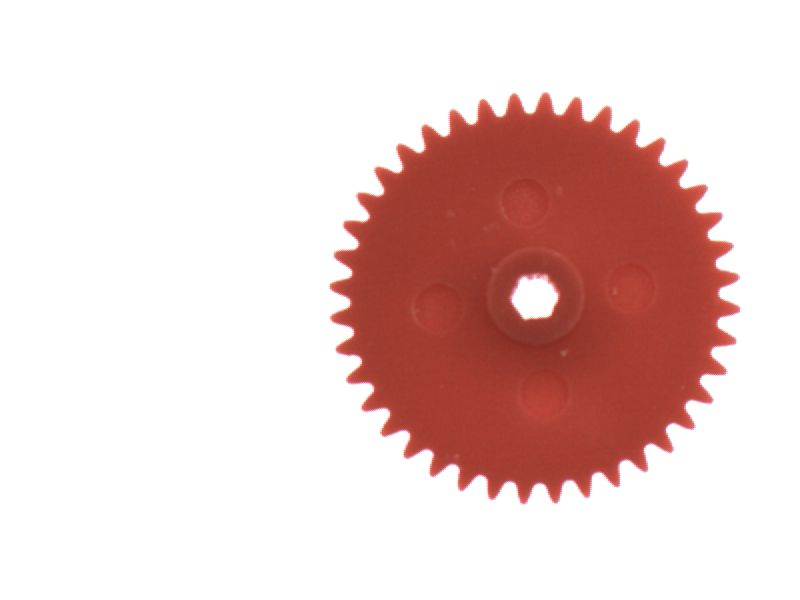good_product: (316, 79, 748, 518)
